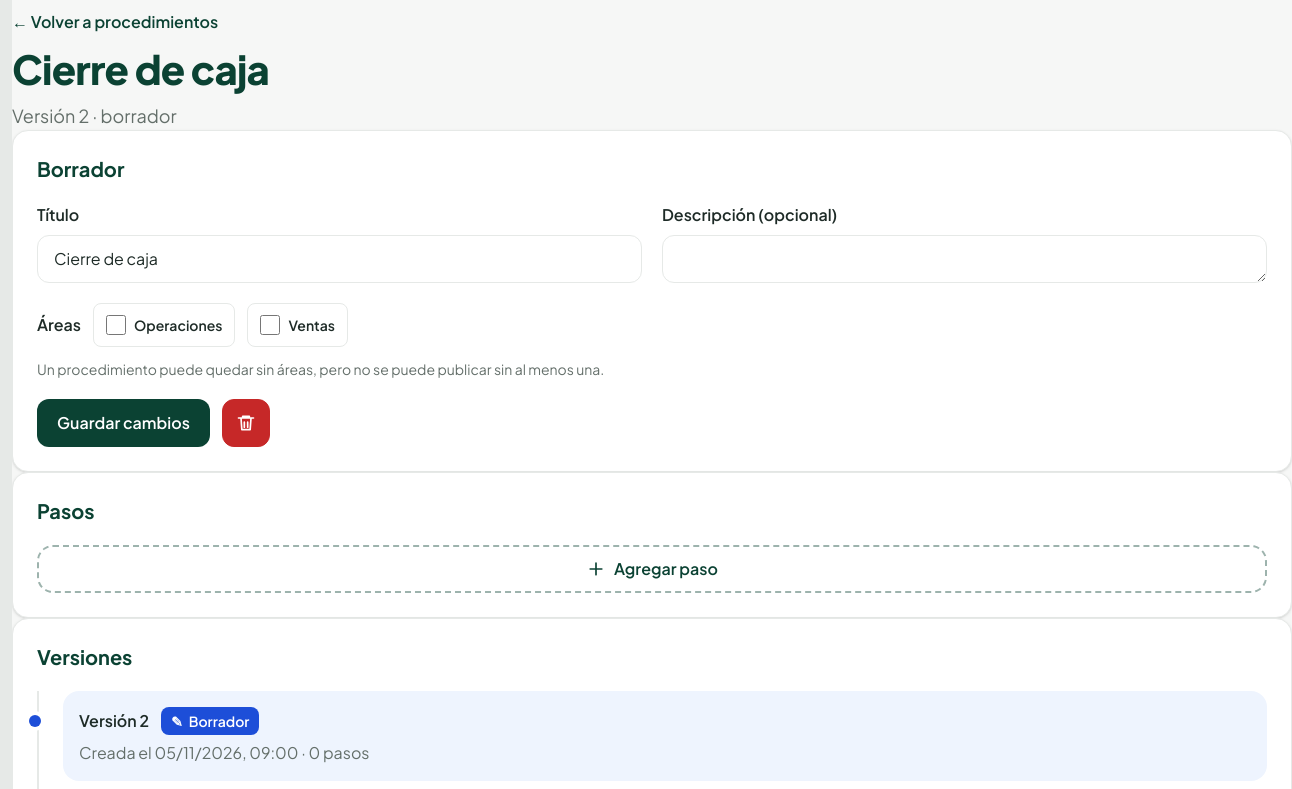
Test: when the draft changes, the history follows (spec 015, R8) › a title saved in the draft asks the history again
Check: the text "0 pasos" is shown, box x1=308 y1=742 x2=370 y2=763
Step 1. Replace the text in the field labelled "Título" with "Cierre nuevo" → (340, 259), box x1=37 y1=235 x2=642 y2=283
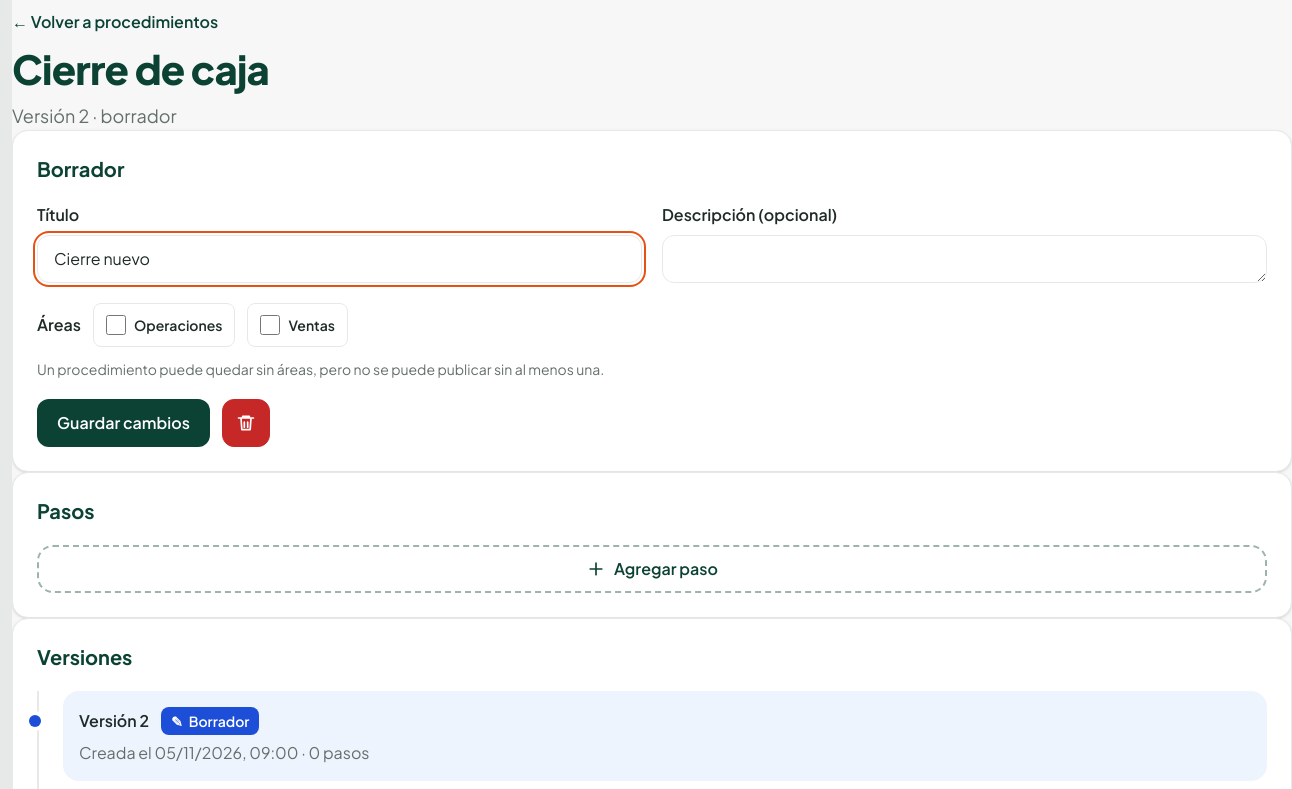
Step 2. Click the button "Guardar cambios" → (123, 423), box x1=37 y1=399 x2=210 y2=447
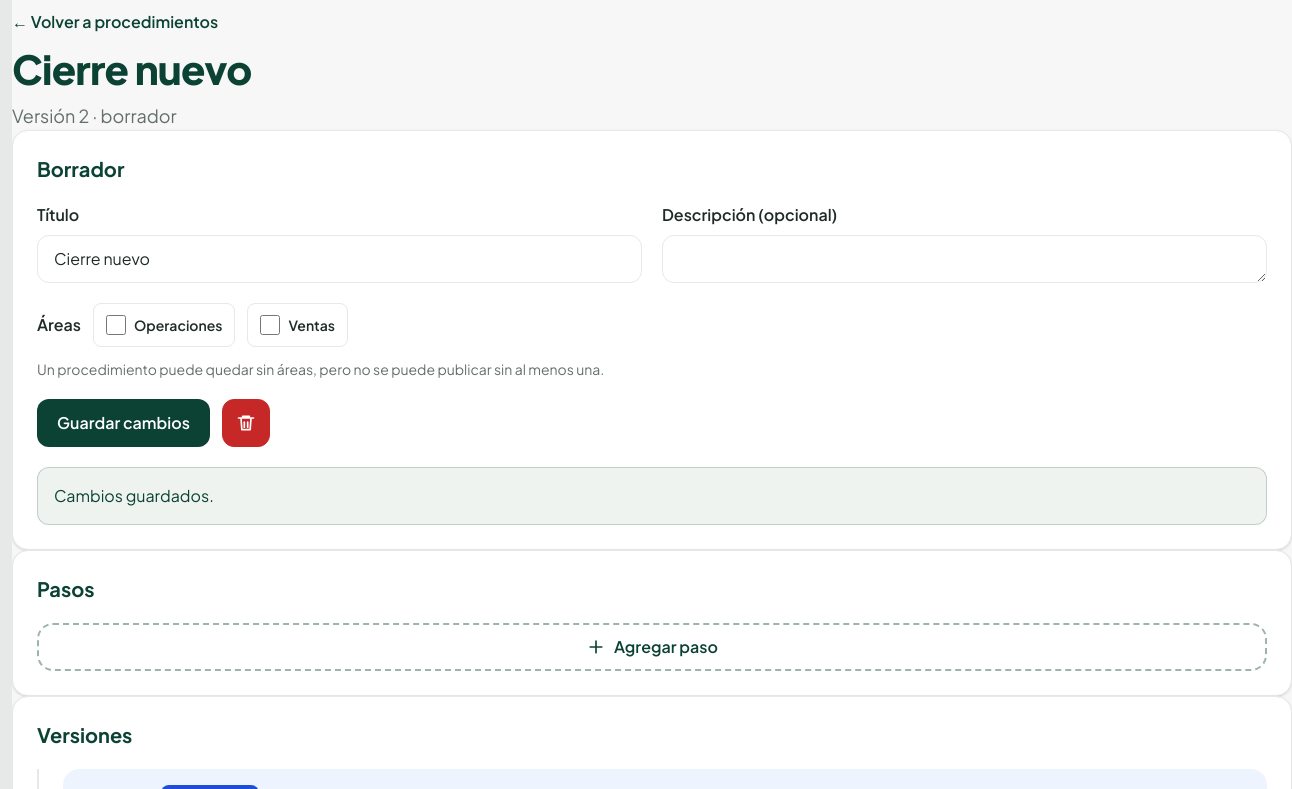
Check: the text "Cambios guardados." is shown, box x1=37 y1=467 x2=1267 y2=525
